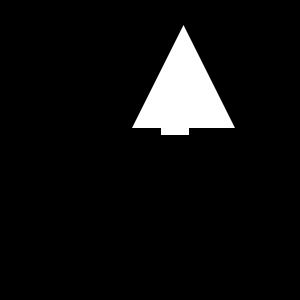circle: (161, 107, 189, 135)
triangle: (132, 25, 235, 128)
